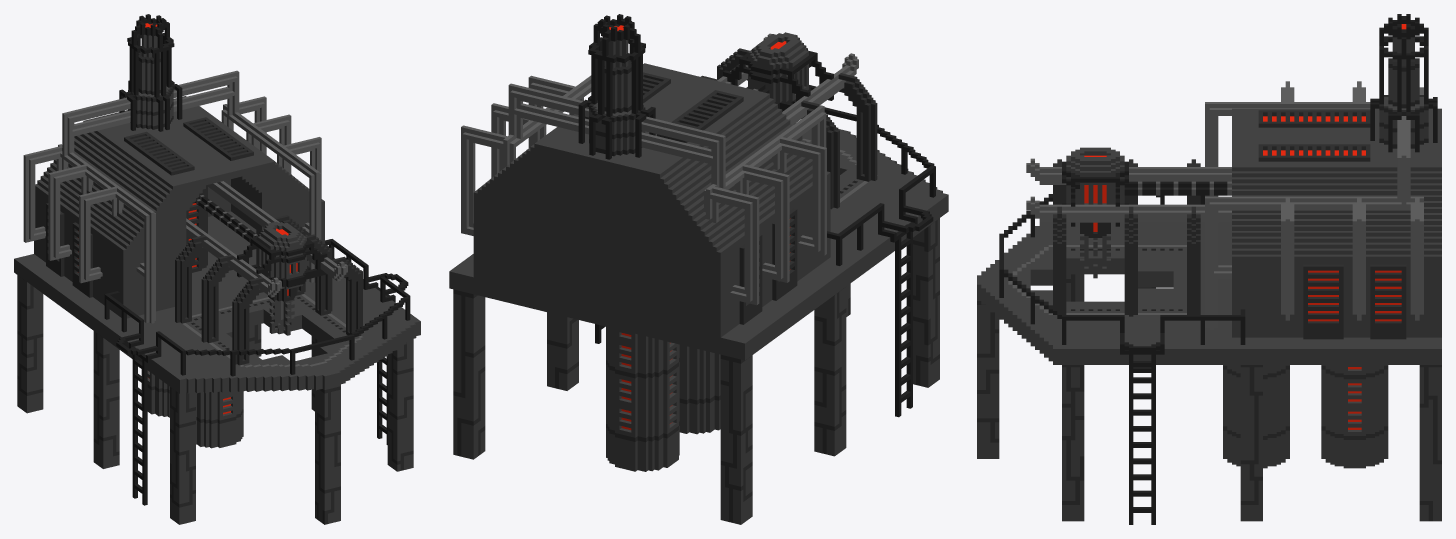
Rendered from LavaPowerPlant.FBX.
3 renders of one model, left to right at view 1: azimuth 30°, elevation 25°; view 2: azimuth 150°, elevation 25°; view 3: azimuth 270°, elevation 25°, orthographic. The views are drawn at different scales.
Visible parts, largest first — view 1: LavaPowerPlant; view 2: LavaPowerPlant; view 3: LavaPowerPlant.
Boxes of the visible parts, <box> form: LavaPowerPlant: <box>14,14,420,524</box>; LavaPowerPlant: <box>449,14,948,524</box>; LavaPowerPlant: <box>977,14,1441,524</box>.
Bounding box in the file's own units: 85 × 107 × 104.
